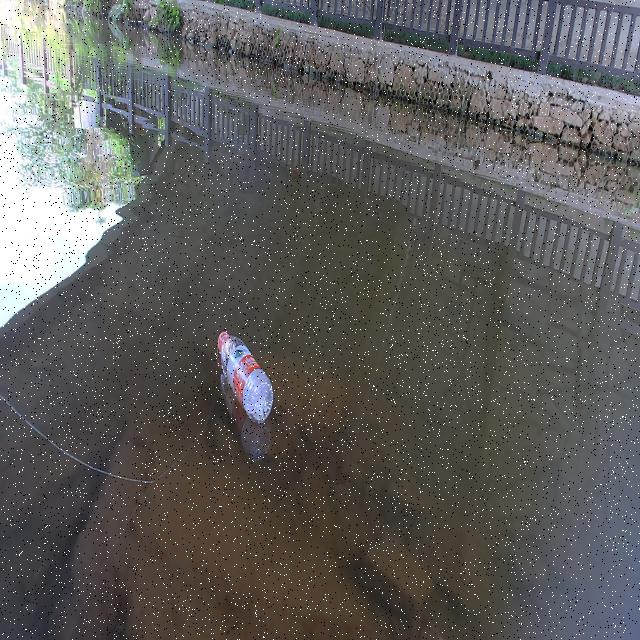Bottle: (215, 326, 273, 426)
